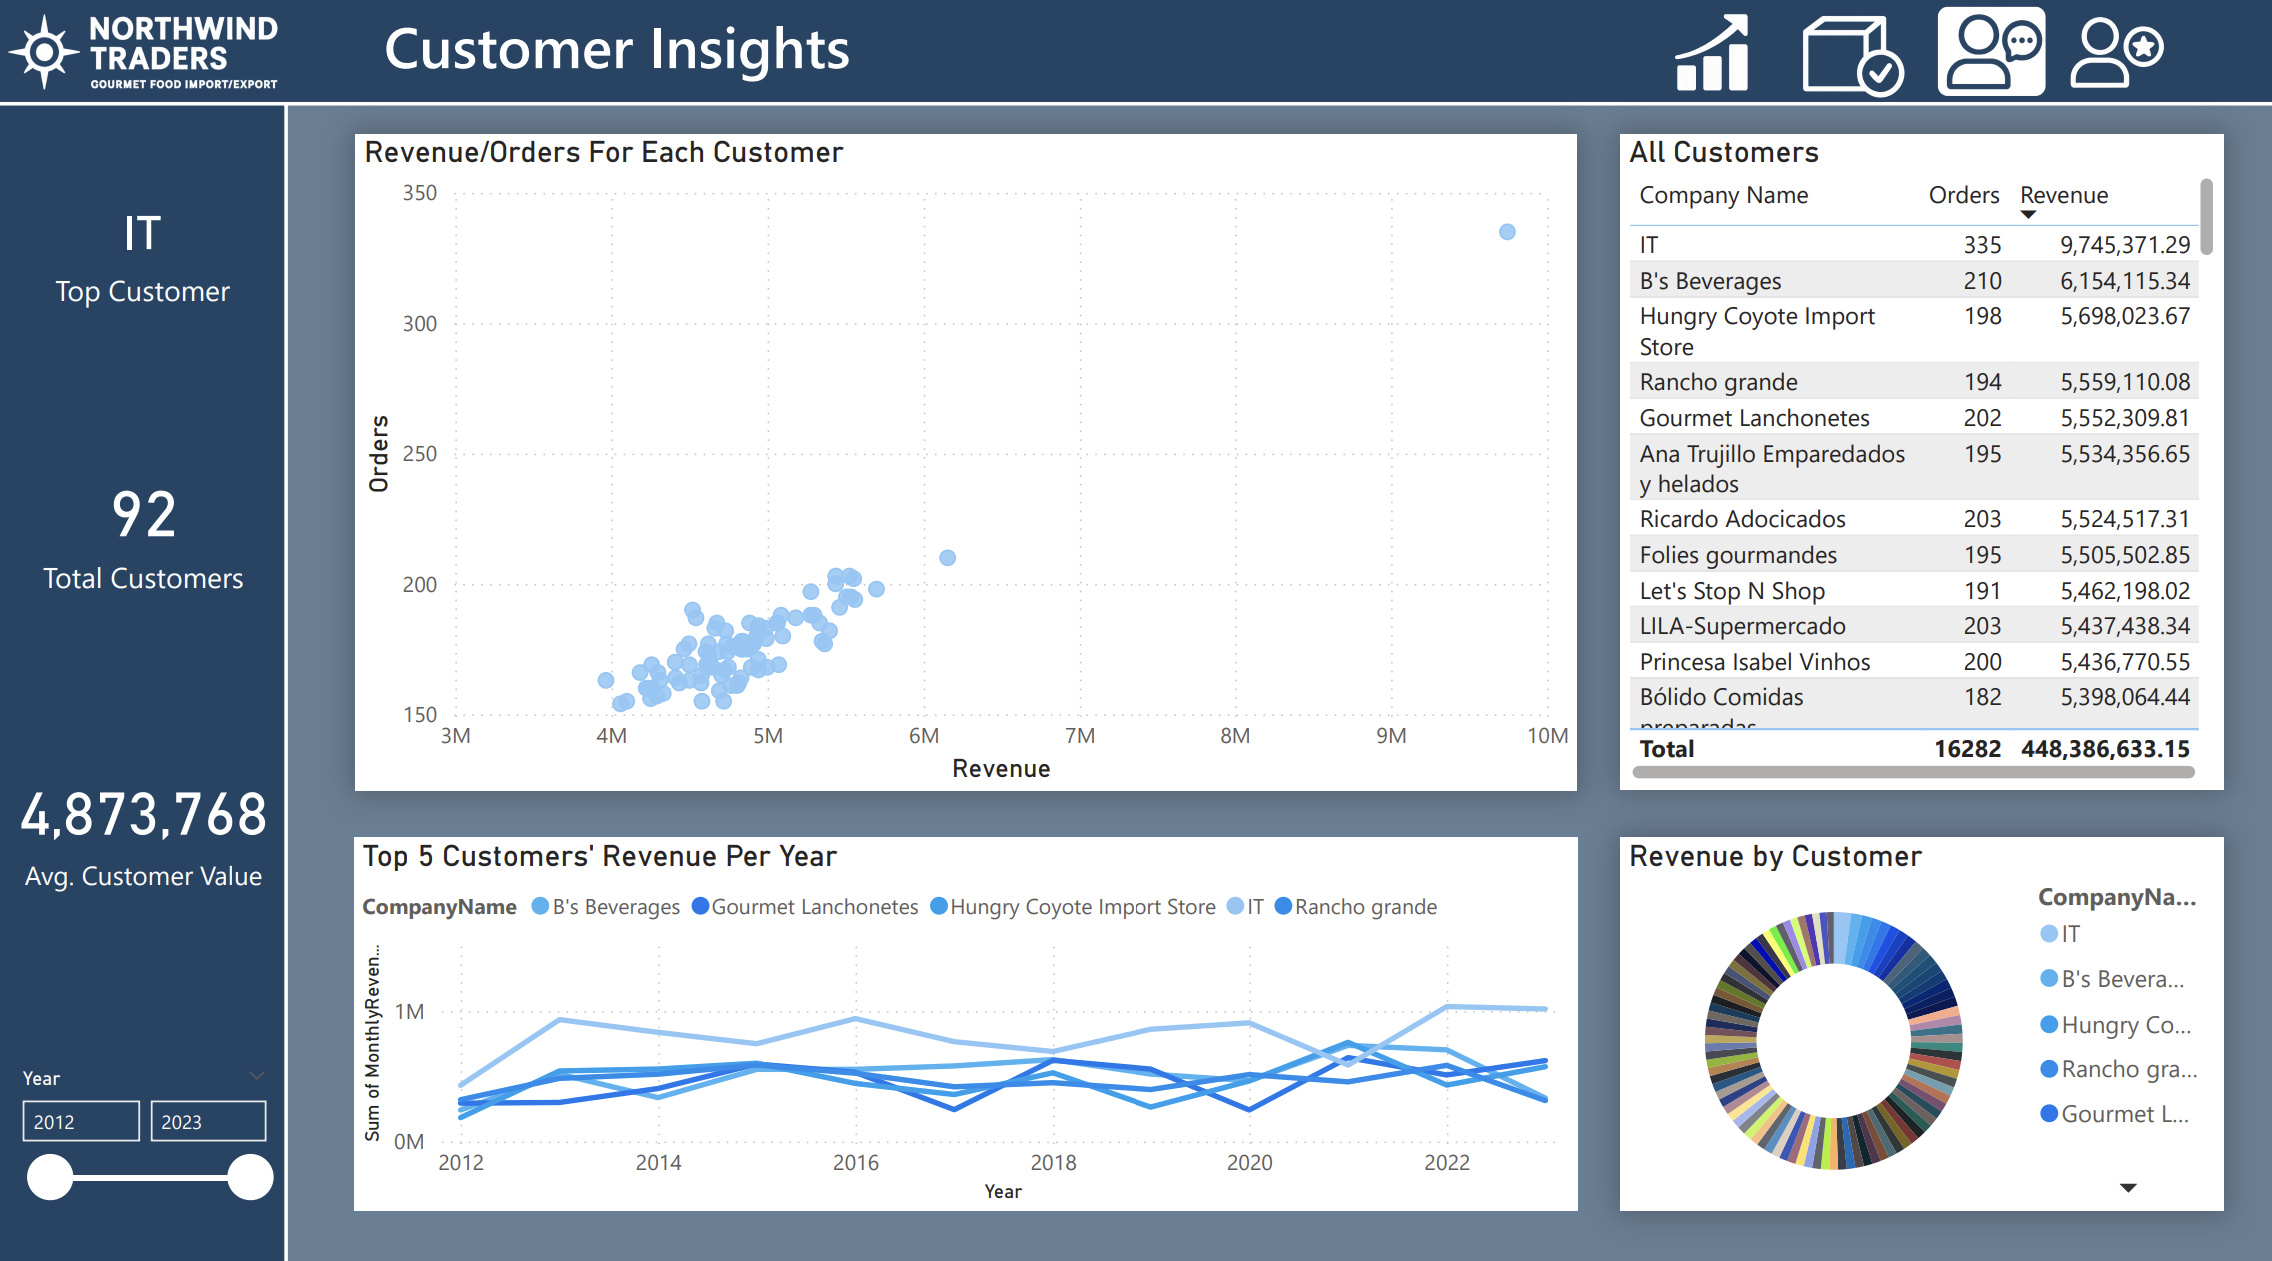

What the dashboard file says about the page in this screenshot:
{"tool":"powerbi","page":{"name":"Customer Insights","canvas":[1280,720],"ordinal":2},"visuals":[{"type":"shape","box":[0,7.8,1280,60.3],"z":0},{"type":"image","box":[0,7.8,163.4,60.3],"z":1000},{"type":"textbox","box":[212,7.8,327.8,60.3],"z":2000},{"type":"shape","box":[162.4,68.1,1117.6,651.7],"z":3000},{"type":"shape","box":[0,68.1,162.4,651.7],"z":4000},{"type":"card","fields":{"Values":["customer_value.Top Customer"]},"box":[0,97.9,162.9,102.9],"z":5000},{"type":"card","fields":{"Values":["Count(customer_value.CompanyName)"]},"box":[0,210.8,163.9,188.9],"z":6000},{"type":"slicer","fields":{"Values":["customer_value.YearMonth.Variation.Date Hierarchy.Year"]},"box":[1,604,162.4,115.7],"z":7000},{"type":"card","fields":{"Values":["customer_value.Average Customer Value"]},"box":[1,422.7,161.9,101.9],"z":8000},{"type":"tableEx","title":"All Customers","fields":{"Values":["customer_value.CompanyName","Sum(customer_value.MonthlyOrders)","Sum(customer_value.MonthlyRevenue)"]},"box":[912.3,84.6,338.5,368.6],"z":9000},{"type":"lineChart","title":"Top 5 Customers'' Revenue Per Year","fields":{"Category":["customer_value.YearMonth.Variation.Date Hierarchy.Year"],"Y":["Sum(customer_value.MonthlyRevenue)"],"Series":["customer_value.CompanyName"]},"box":[200.4,480.5,687.7,209.1],"z":10000},{"type":"donutChart","title":"Revenue by Customer","fields":{"Category":["customer_value.CompanyName"],"Y":["Sum(customer_value.MonthlyRevenue)"]},"box":[912.3,480.5,338.5,209.1],"z":11000},{"type":"scatterChart","title":"Revenue/Orders For Each Customer","fields":{"Category":["customer_value.CompanyName"],"X":["Sum(customer_value.MonthlyRevenue)"],"Y":["Sum(customer_value.MonthlyOrders)"]},"box":[200.8,84.9,687.5,368.7],"z":12000},{"type":"image","box":[1156.2,6.2,68.6,65.7],"z":13000},{"type":"image","box":[927.3,0.9,74.1,75],"z":14000},{"type":"image","box":[1083.5,0.9,73,73.9],"z":14500},{"type":"image","box":[1001,0,82.4,80.5],"z":15000}]}

Visuals, with their boxes in screenshot pixels (x1, y1, x2, y2), scaled from the page's 1280x720 canvas onto the 2272x1261 screenshot:
shape: [0, 14, 2271, 119]
image: [0, 14, 290, 119]
textbox: [376, 14, 958, 119]
shape: [288, 119, 2271, 1260]
shape: [0, 119, 288, 1260]
card - customer_value.Top Customer: [0, 171, 289, 352]
card - Count(customer_value.CompanyName): [0, 369, 291, 700]
slicer - customer_value.YearMonth.Variation.Date Hierarchy.Year: [2, 1058, 290, 1260]
card - customer_value.Average Customer Value: [2, 740, 289, 919]
"All Customers" tableEx: [1619, 148, 2220, 794]
"Top 5 Customers'' Revenue Per Year" lineChart: [356, 842, 1576, 1208]
"Revenue by Customer" donutChart: [1619, 842, 2220, 1208]
"Revenue/Orders For Each Customer" scatterChart: [356, 149, 1577, 794]
image: [2052, 11, 2174, 126]
image: [1646, 2, 1777, 133]
image: [1923, 2, 2053, 131]
image: [1777, 0, 1923, 141]
